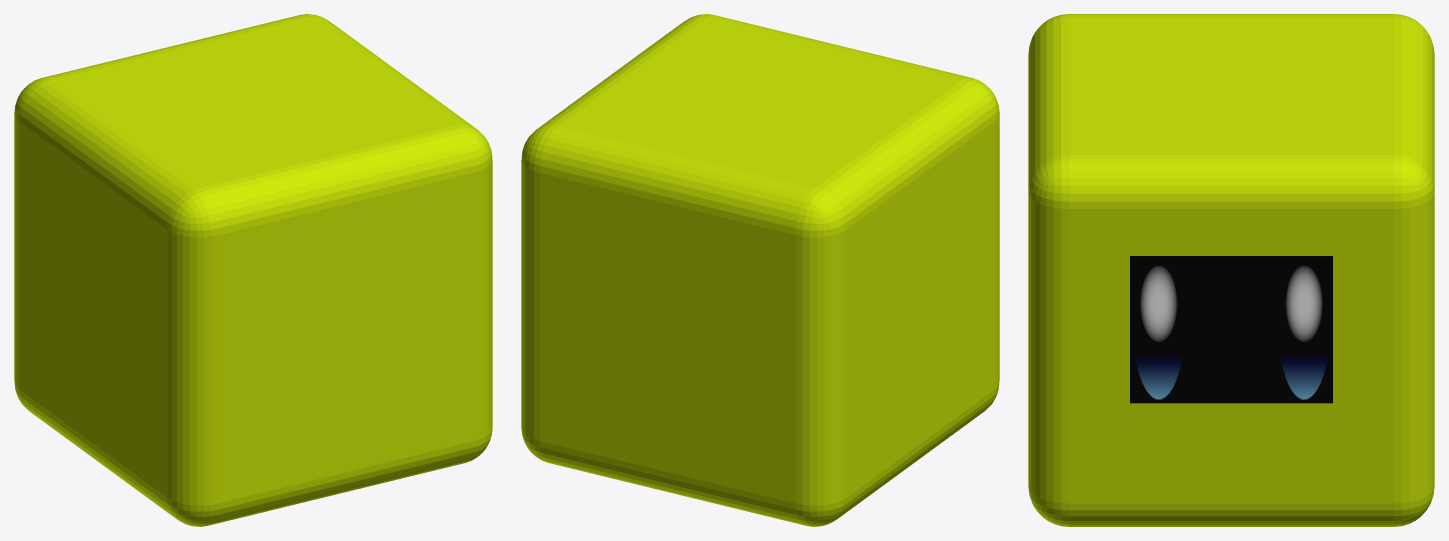
The model's file is Player.fbx.
3 views of the same model, side by side, from view 1: azimuth 30°, elevation 25°; view 2: azimuth 150°, elevation 25°; view 3: azimuth 270°, elevation 25° (orthographic). The views are drawn at different scales.
Visible parts, largest first — view 1: Cube; view 2: Cube; view 3: Cube, Plane.
Part boxes in pixels (x1,y1,x2,y2): Cube: [14, 14, 492, 526]; Cube: [521, 14, 999, 526]; Cube: [1028, 14, 1434, 526]; Plane: [1130, 256, 1332, 403].
Bounding box in the file's own units: 100 × 100 × 100.
